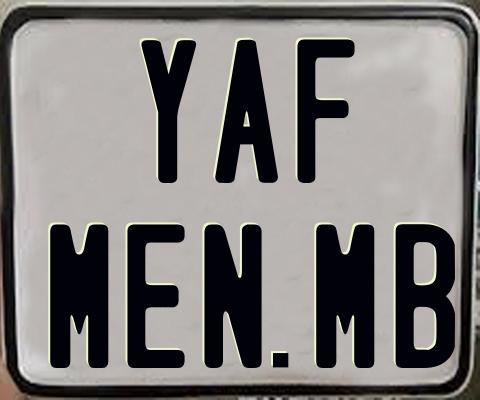A: (213, 40, 281, 187)
B: (396, 222, 455, 366)
E: (124, 222, 185, 367)
F: (296, 37, 359, 187)
M: (316, 223, 375, 372), (48, 222, 108, 366)
N: (201, 221, 260, 365)
Y: (138, 39, 194, 185)
